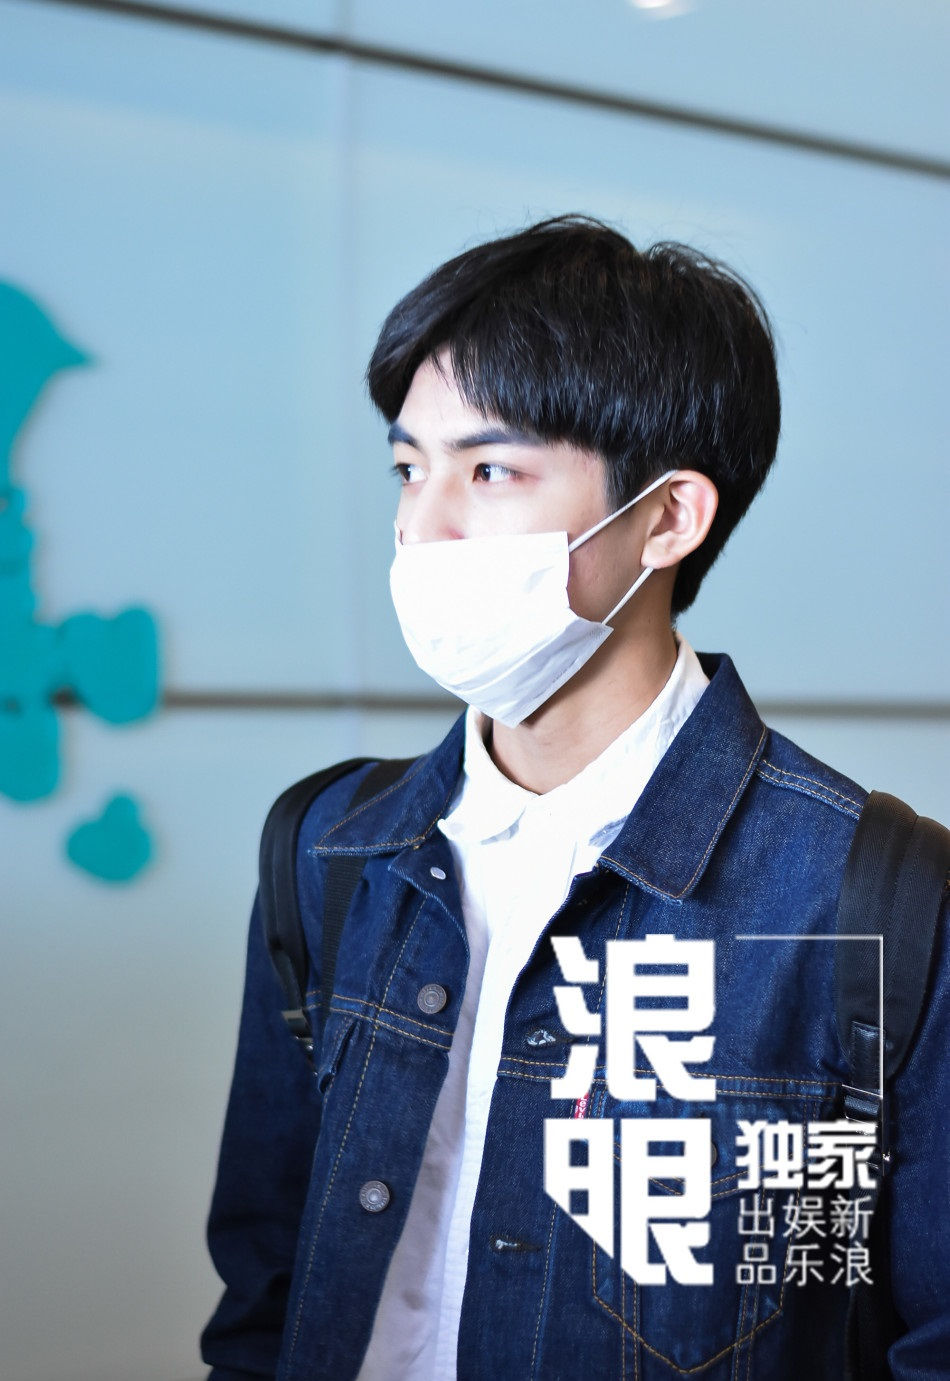face_mask: (390, 306, 636, 718)
